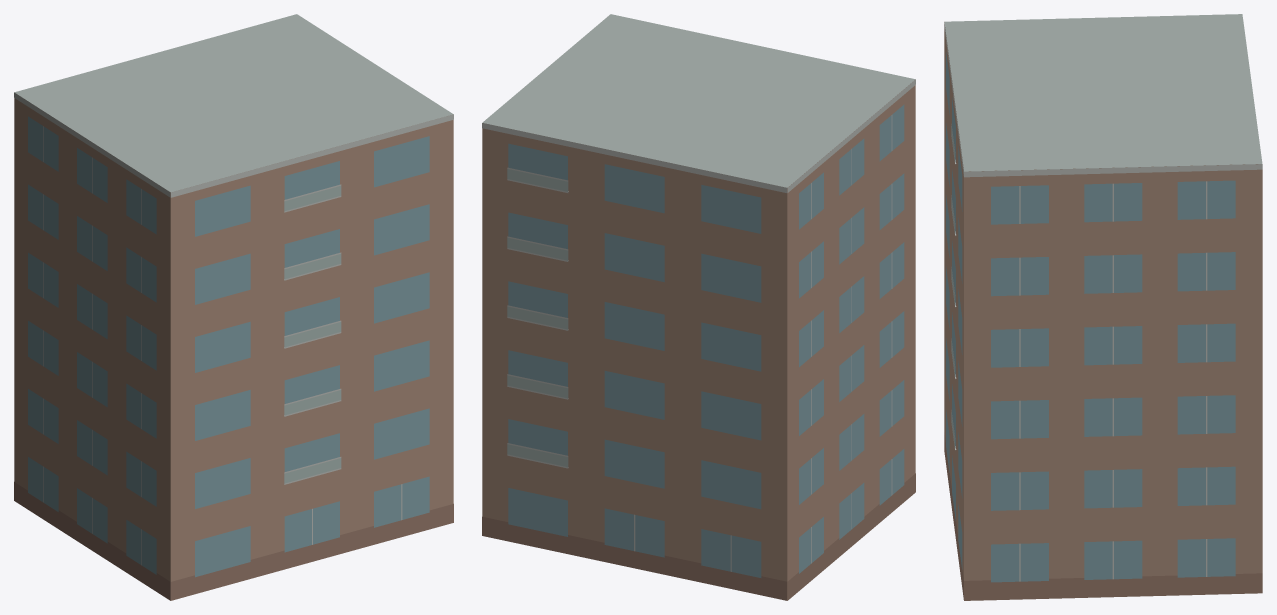
File: survey-upis-33007202.glb
3 views of the same model, side by side, from view 1: azimuth 30°, elevation 25°; view 2: azimuth 150°, elevation 25°; view 3: azimuth 270°, elevation 25° (orthographic). The views are drawn at different scales.
Parts seen in each view (by area): view 1: survey-upis-33007202.tmp; view 2: survey-upis-33007202.tmp; view 3: survey-upis-33007202.tmp.
Boxes of the visible parts, box(x1,y1,x2,y2) form: survey-upis-33007202.tmp: box(14, 14, 453, 600); survey-upis-33007202.tmp: box(482, 14, 915, 600); survey-upis-33007202.tmp: box(944, 14, 1262, 600).
Bounding box in the file's own units: 14.41 × 18.3 × 12.3.
